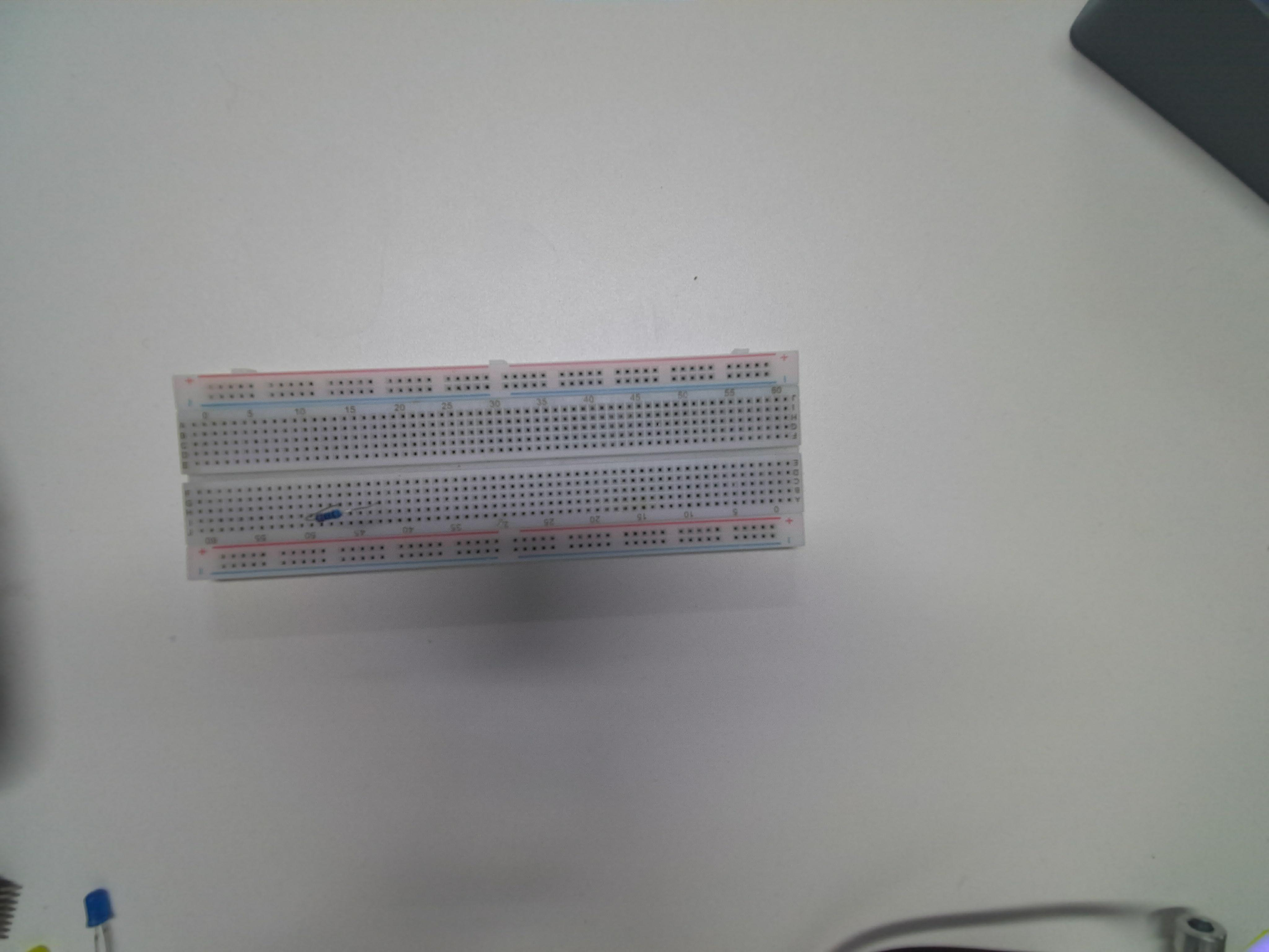base: (167, 351, 805, 586)
blue-led: (82, 886, 116, 931)
resistor-small: (316, 507, 341, 524)
